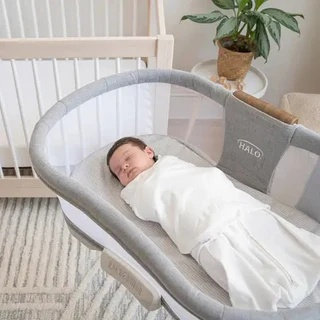baby: (107, 137, 319, 310)
crib: (30, 70, 319, 319), (0, 0, 172, 196)
